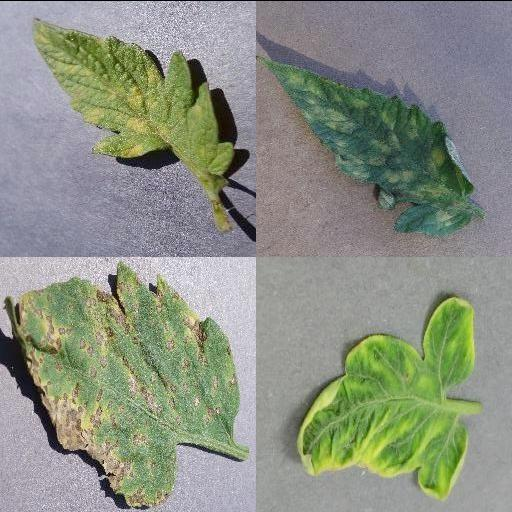Leaf Mold: (258, 55, 474, 237), (31, 18, 235, 189)
Septoria: (4, 260, 238, 507)
Yellow Leaf Curl Virus: (294, 295, 476, 500)
